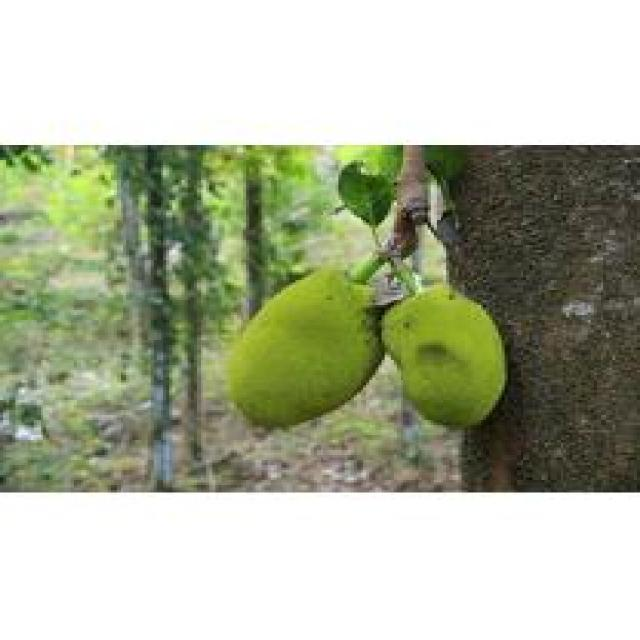Fruit: (209, 250, 394, 442), (363, 267, 526, 445)
